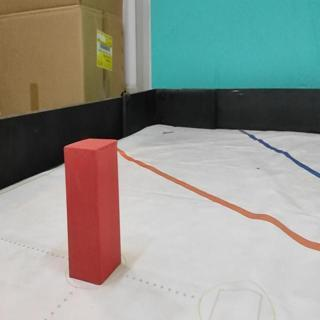redbox: (63, 137, 123, 285)
